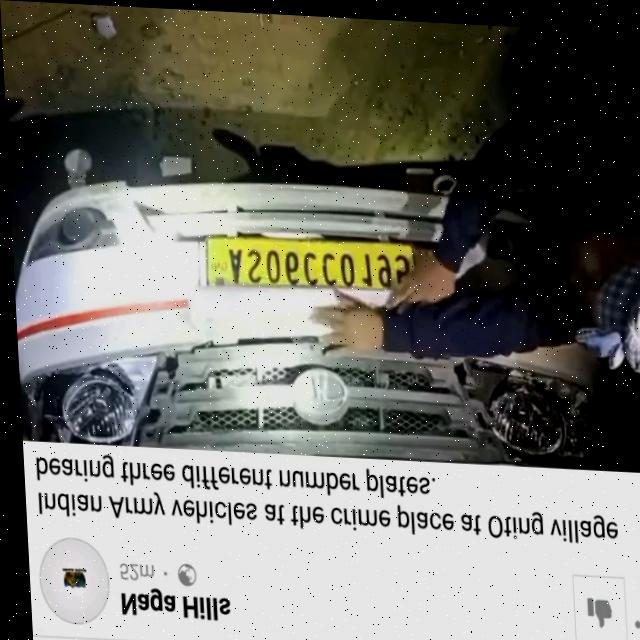plate: (195, 221, 421, 306)
